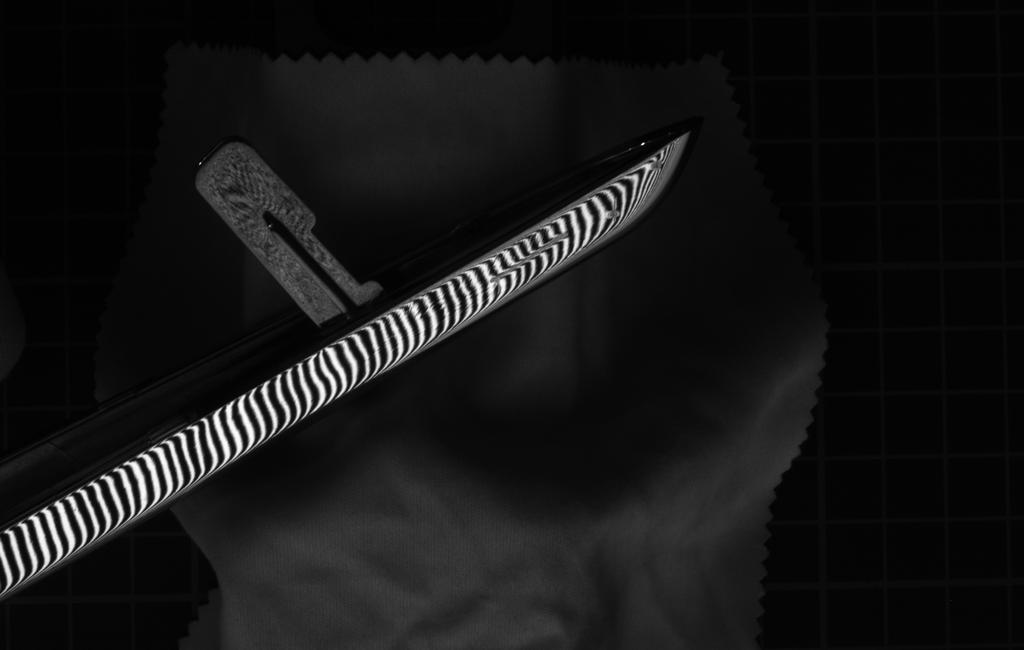Pierced: (601, 201, 623, 226), (648, 154, 667, 175)
Scratch: (485, 227, 576, 290)
